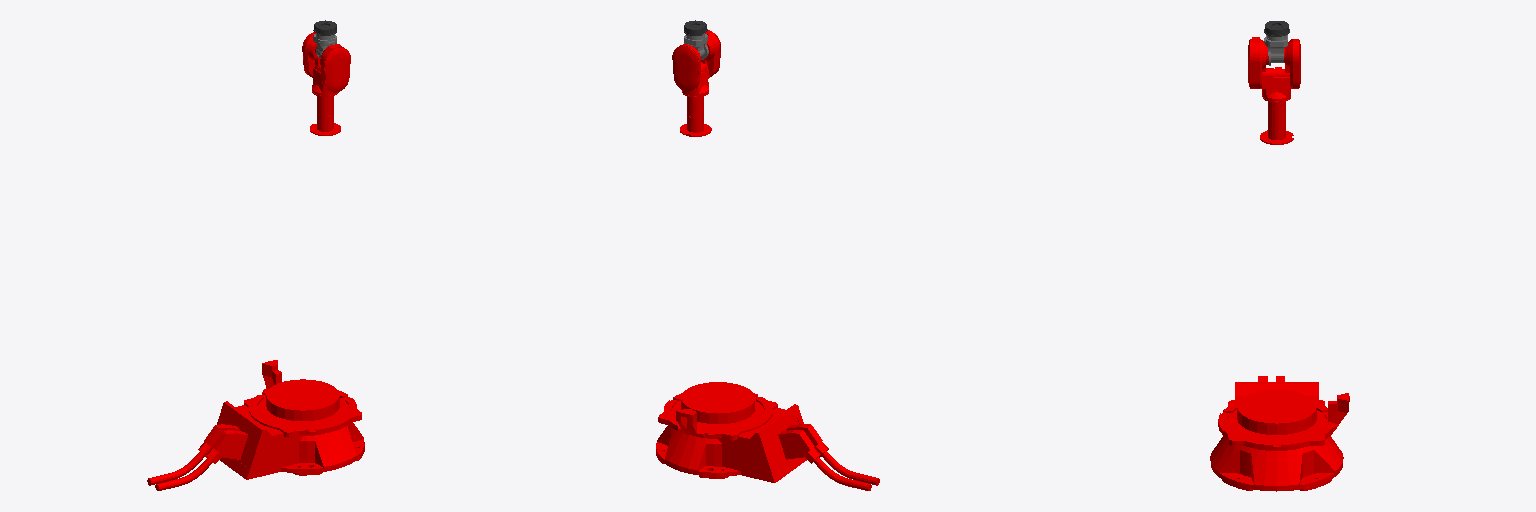
URDF robot description (comau_ns16arc):
<?xml version="1.0" ?>
<!-- =================================================================================== -->
<!-- |    This document was autogenerated by xacro from comau_ns16arc.xacro            | -->
<!-- |    EDITING THIS FILE BY HAND IS NOT RECOMMENDED                                 | -->
<!-- =================================================================================== -->
<robot name="comau_ns16arc" xmlns:xacro="http://ros.org/wiki/xacro">
  <link name="base_link">
    <visual>
      <origin rpy="0 0 0" xyz="0 0 0"/>
      <geometry>
        <mesh filename="package://comau_ns16arc_support/meshes/base_link.STL"/>
      </geometry>
      <material name="Red">
        <color rgba="1 0 0 1"/>
      </material>
    </visual>
    <collision>
      <origin rpy="0 0 0" xyz="0 0 0"/>
      <geometry>
        <mesh filename="package://comau_ns16arc_support/meshes/base_link.STL"/>
      </geometry>
    </collision>
  </link>
  <link name="Link_1">
    <inertial>
      <origin rpy="0 0 0" xyz="0.092687 0.0098815 -0.17643"/>
      <mass value="295.32"/>
      <inertia ixx="5.9793" ixy="0.12844" ixz="-1.8884" iyy="9.5747" iyz="-0.45474" izz="8.0459"/>
    </inertial>
    <visual>
      <origin rpy="0 0 0" xyz="0 0 0"/>
      <geometry>
        <mesh filename="package://comau_ns16arc_support/meshes/Link_1.STL"/>
      </geometry>
      <material name="">
        <color rgba="1 0 0 1"/>
      </material>
    </visual>
    <collision>
      <origin rpy="0 0 0" xyz="0 0 0"/>
      <geometry>
        <mesh filename="package://comau_ns16arc_support/meshes/Link_1.STL"/>
      </geometry>
    </collision>
  </link>
  <joint name="Joint_1" type="revolute">
    <origin rpy="-3.1416 0 0" xyz="0 0 0.251"/>
    <parent link="base_link"/>
    <child link="Link_1"/>
    <axis xyz="0 0 1"/>
    <limit effort="0" lower="-3.14159" upper="3.14159" velocity="0"/>
  </joint>
  <link name="Link_2">
    <inertial>
      <origin rpy="0 0 0" xyz="0.012589 0.28782 -0.10477"/>
      <mass value="58.959"/>
      <inertia ixx="3.913" ixy="0.07732" ixz="-0.024978" iyy="0.47847" iyz="-0.39274" izz="3.9572"/>
    </inertial>
    <visual>
      <origin rpy="0 0 0" xyz="0 0 0"/>
      <geometry>
        <mesh filename="package://comau_ns16arc_support/meshes/Link_2.STL"/>
      </geometry>
      <material name="">
        <color rgba="1 0 0 1"/>
      </material>
    </visual>
    <collision>
      <origin rpy="0 0 0" xyz="0 0 0"/>
      <geometry>
        <mesh filename="package://comau_ns16arc_support/meshes/Link_2.STL"/>
      </geometry>
    </collision>
  </link>
  <joint name="Joint_2" type="revolute">
    <origin rpy="-1.5708 0 3.1416" xyz="0.3 0.101 -0.349"/>
    <parent link="Link_1"/>
    <child link="Link_2"/>
    <axis xyz="0 0 1"/>
    <limit effort="0" lower="-0.87266" upper="1.658" velocity="0"/>
  </joint>
  <link name="Link_3">
    <inertial>
      <origin rpy="0 0 0" xyz="0.081754 0.13848 -0.077319"/>
      <mass value="127.93"/>
      <inertia ixx="2.6486" ixy="0.38607" ixz="-0.293" iyy="1.6625" iyz="-0.60693" izz="2.2741"/>
    </inertial>
    <visual>
      <origin rpy="0 0 0" xyz="0 0 0"/>
      <geometry>
        <mesh filename="package://comau_ns16arc_support/meshes/Link_3.STL"/>
      </geometry>
      <material name="">
        <color rgba="1 0 0 1"/>
      </material>
    </visual>
    <collision>
      <origin rpy="0 0 0" xyz="0 0 0"/>
      <geometry>
        <mesh filename="package://comau_ns16arc_support/meshes/Link_3.STL"/>
      </geometry>
    </collision>
  </link>
  <joint name="Joint_3" type="revolute">
    <origin rpy="3.1416 0 1.5708" xyz="0 0.7 0"/>
    <parent link="Link_2"/>
    <child link="Link_3"/>
    <axis xyz="0 0 1"/>
    <limit effort="0" lower="-2.967" upper="1.9198" velocity="0"/>
  </joint>
  <link name="Link_4">
    <inertial>
      <origin rpy="0 0 0" xyz="-4.3765E-06 -0.01007 -0.27556"/>
      <mass value="37.589"/>
      <inertia ixx="0.65662" ixy="-3.6419E-06" ixz="-2.0413E-05" iyy="0.54018" iyz="0.026907" izz="0.177"/>
    </inertial>
    <visual>
      <origin rpy="0 0 0" xyz="0 0 0"/>
      <geometry>
        <mesh filename="package://comau_ns16arc_support/meshes/Link_4.STL"/>
      </geometry>
      <material name="">
        <color rgba="1 0 0 1"/>
      </material>
    </visual>
    <collision>
      <origin rpy="0 0 0" xyz="0 0 0"/>
      <geometry>
        <mesh filename="package://comau_ns16arc_support/meshes/Link_4.STL"/>
      </geometry>
    </collision>
  </link>
  <joint name="Joint_4" type="revolute">
    <origin rpy="-1.5708 0 1.5708" xyz="0.238 0.185 -0.101"/>
    <parent link="Link_3"/>
    <child link="Link_4"/>
    <axis xyz="0 0 1"/>
    <limit effort="0" lower="-6.2831853" upper="6.2831853" velocity="0"/>
  </joint>
  <link name="Link_5">
    <inertial>
      <origin rpy="0 0 0" xyz="0.053501 -2.0551E-05 -0.0011681"/>
      <mass value="5.6467"/>
      <inertia ixx="0.0051083" ixy="6.1292E-06" ixz="0.00019799" iyy="0.011737" iyz="4.2034E-06" izz="0.011695"/>
    </inertial>
    <visual>
      <origin rpy="0 0 0" xyz="0 0 0"/>
      <geometry>
        <mesh filename="package://comau_ns16arc_support/meshes/Link_5.STL"/>
      </geometry>
      <material name="">
        <color rgba="0.50196 0.50196 0.50196 1"/>
      </material>
    </visual>
    <collision>
      <origin rpy="0 0 0" xyz="0 0 0"/>
      <geometry>
        <mesh filename="package://comau_ns16arc_support/meshes/Link_5.STL"/>
      </geometry>
    </collision>
  </link>
  <joint name="Joint_5" type="revolute">
    <origin rpy="-1.5708 1.5708 0" xyz="0 0 -0.386"/>
    <parent link="Link_4"/>
    <child link="Link_5"/>
    <axis xyz="0 0 1"/>
    <limit effort="0" lower="-3.14159" upper="3.14159" velocity="0"/>
  </joint>
  <link name="Link_6">
    <inertial>
      <origin rpy="0 0 0" xyz="-0.0022013 2.0382E-05 -0.017234"/>
      <mass value="1.2001"/>
      <inertia ixx="0.00098201" ixy="5.385E-08" ixz="-7.915E-06" iyy="0.00086572" iyz="3.5423E-07" izz="0.0017201"/>
    </inertial>
    <visual>
      <origin rpy="0 0 0" xyz="0 0 0"/>
      <geometry>
        <mesh filename="package://comau_ns16arc_support/meshes/Link_6.STL"/>
      </geometry>
      <material name="">
        <color rgba="0.25098 0.25098 0.25098 1"/>
      </material>
    </visual>
    <collision>
      <origin rpy="0 0 0" xyz="0 0 0"/>
      <geometry>
        <mesh filename="package://comau_ns16arc_support/meshes/Link_6.STL"/>
      </geometry>
    </collision>
  </link>
  <joint name="Joint_6" type="revolute">
    <origin rpy="1.5708 0 -1.5708" xyz="0.106 0 0"/>
    <parent link="Link_5"/>
    <child link="Link_6"/>
    <axis xyz="0 0 1"/>
    <limit effort="0" lower="-6.2831853" upper="6.2831853" velocity="0"/>
  </joint>
  <link name="Flange"/>
  <joint name="Flange_fixed" type="fixed">
    <origin rpy="3.1416 0 3.1416" xyz="0 0 -0.014"/>
    <parent link="Link_6"/>
    <child link="Flange"/>
    <axis xyz="0 0 0"/>
  </joint>
  <link name="ee_link"/>
  <joint name="ee_link_fixed" type="fixed">
    <origin rpy="0 0 1.570796326794897" xyz="0.304083 0.002668 0.232848"/>
    <parent link="Flange"/>
    <child link="ee_link"/>
    <axis xyz="0 0 0"/>
  </joint>
  <link name="base"/>
  <joint name="base_link-base_fixed_joint" type="fixed">
    <origin rpy="0 0 -3.14159265" xyz="0 0 0"/>
    <parent link="base_link"/>
    <child link="base"/>
  </joint>
  <!-- Frame coincident with all-zeros TCP on COMAU controller -->
  <link name="world"/>
  <joint name="world_joint" type="fixed">
    <child link="world"/>
    <parent link="base"/>
    <origin rpy="0 0 -3.14159265" xyz="0.0 0.0 0.0"/>
  </joint>
</robot>

--- Render facts (derived) ---
3 views of the same robot in one strip: view 1: azimuth 30°, elevation 25°; view 2: azimuth 150°, elevation 25°; view 3: azimuth 270°, elevation 25° (orthographic).
Model comau_ns16arc with 11 links and 10 joints (6 revolute, 4 fixed), rooted at base_link, posed all joints at 0.
Links seen in each view (by area): view 1: base_link, Link_4; view 2: base_link, Link_4; view 3: base_link, Link_4.
Boxes of the visible links, x1,y1,x2,y2 form: base_link: (147, 360, 364, 490); Link_4: (302, 32, 350, 135); base_link: (656, 382, 879, 490); Link_4: (672, 30, 720, 136); base_link: (1210, 376, 1349, 491); Link_4: (1248, 37, 1300, 144).
Size in the robot's own frame: 1.06 by 0.5749 by 2.06 metres.
Meshes: 7 distinct files referenced, 4 mesh visuals loaded (4 binary STL); not drawn: 3 (reference not matched to a file when rendering).